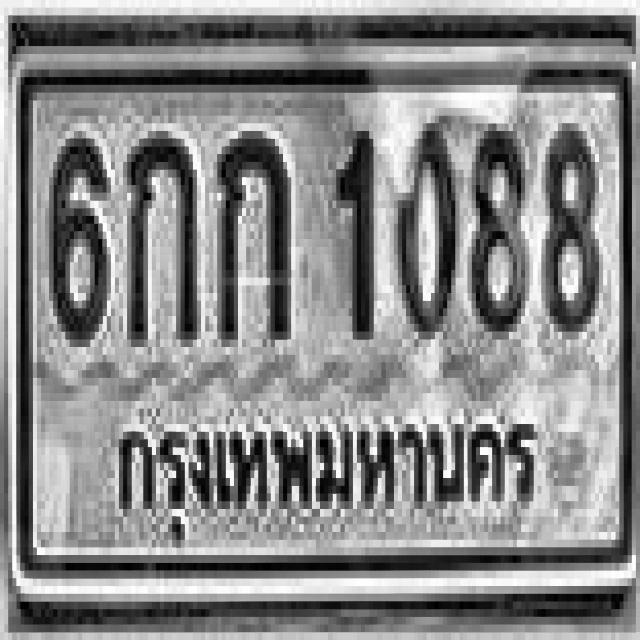license-plate: (18, 55, 636, 606)
